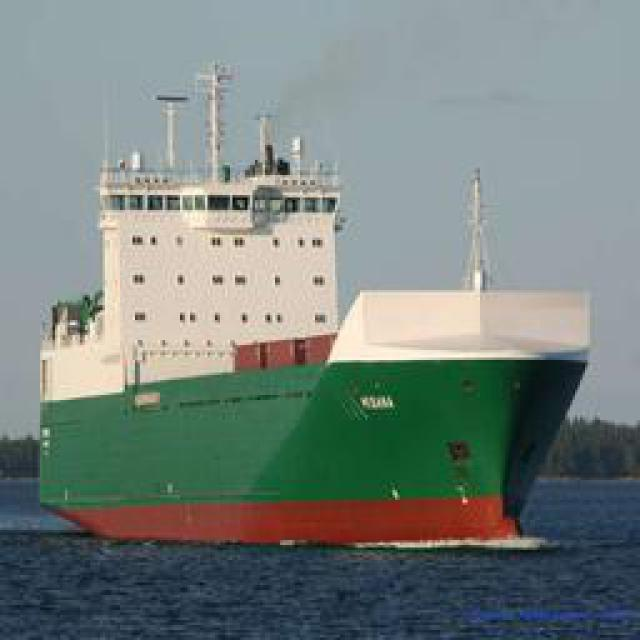Ship: (37, 279, 605, 542)
